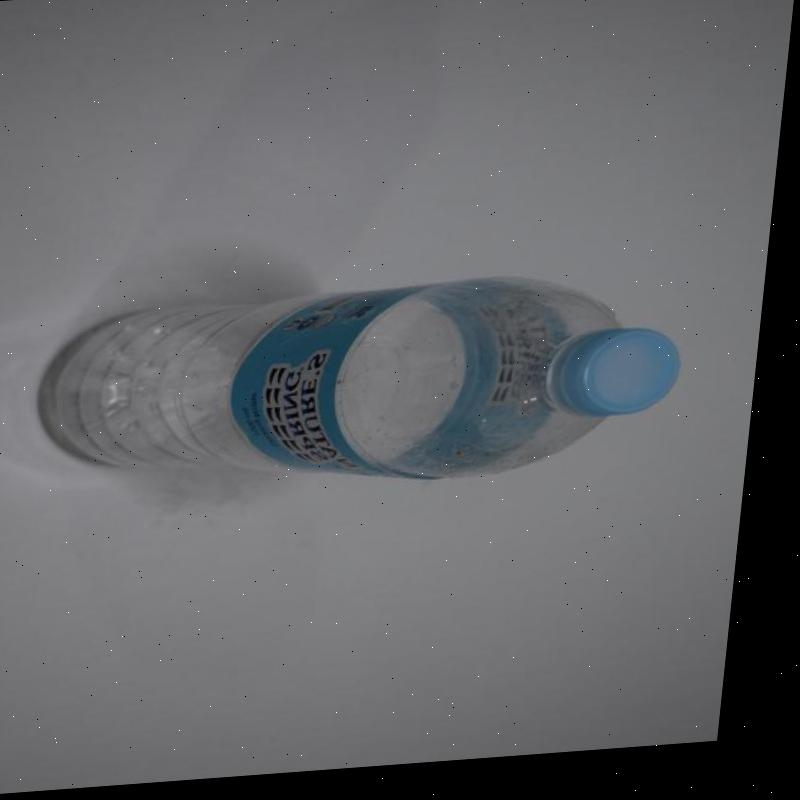botella: (44, 272, 699, 510)
